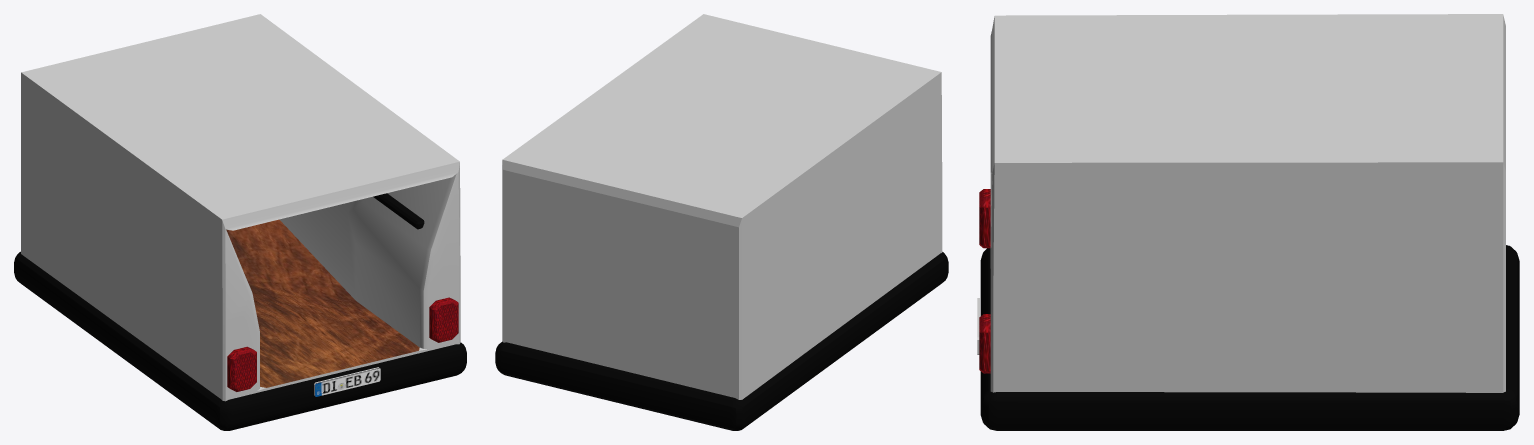
The model's file is transporter.fbx.
3 views of the same model, side by side, from view 1: azimuth 30°, elevation 25°; view 2: azimuth 150°, elevation 25°; view 3: azimuth 270°, elevation 25° (orthographic). The views are drawn at different scales.
Parts seen in each view (by area): view 1: kennzeichen1; view 2: kennzeichen1; view 3: kennzeichen1.
Boxes of the visible parts, x1,y1,x2,y2 form: kennzeichen1: (14, 14, 466, 430); kennzeichen1: (495, 14, 948, 430); kennzeichen1: (977, 14, 1519, 430).
Bounding box in the file's own units: 9.5 × 7.74 × 14.04.
6 materials, 4 textured.
